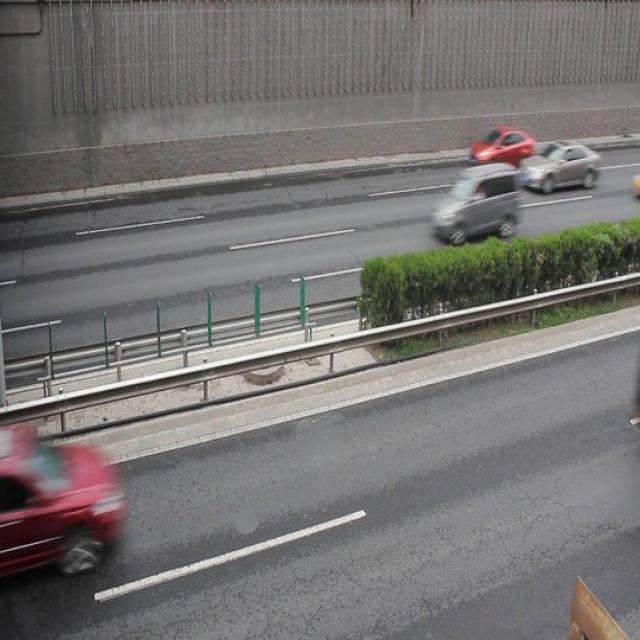car: (0, 432, 120, 584), (519, 138, 599, 194), (469, 126, 533, 172)
truck: (430, 162, 517, 240)
